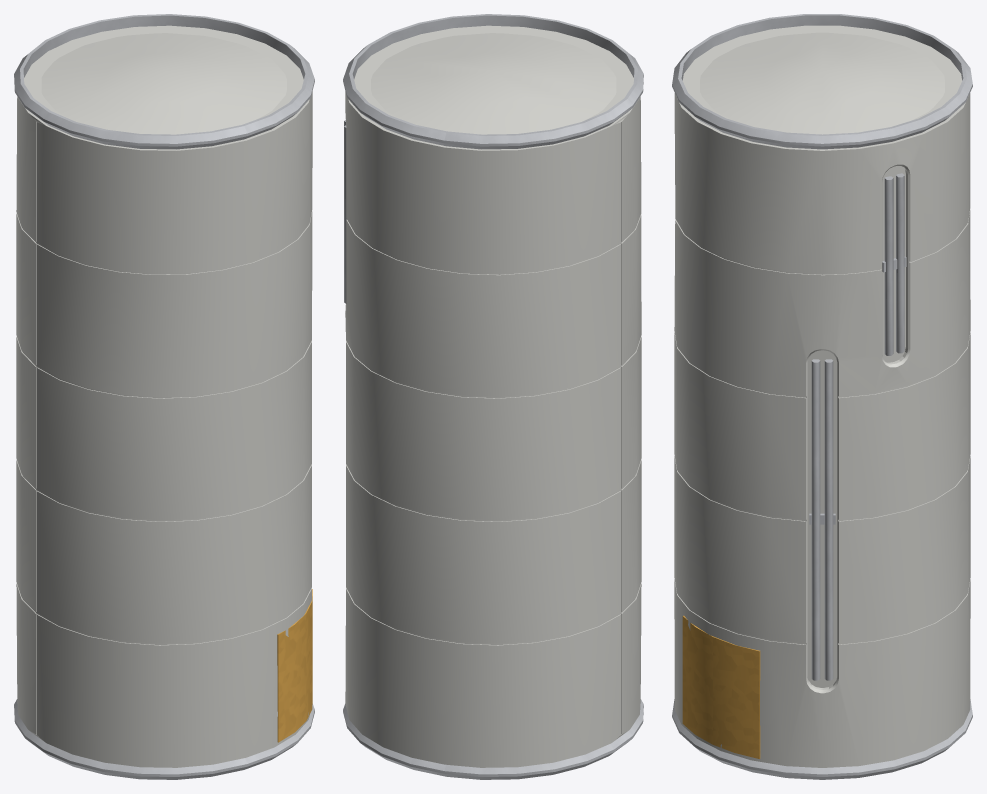
Rendered from ax_tank_01_modern_methalox_m_long.glb.
The picture shows the model from 3 angles, left to right: view 1: azimuth 30°, elevation 25°; view 2: azimuth 150°, elevation 25°; view 3: azimuth 270°, elevation 25°; orthographic projection.
Visible parts, largest first — view 1: tank_barrel, dome_caps, end_rings, mli_patch; view 2: tank_barrel, dome_caps, end_rings, raceway_lines; view 3: tank_barrel, dome_caps, end_rings, raceway_lines, mli_patch.
Boxes of the visible parts, x1,y1,x2,y2 form: tank_barrel: (16, 91, 312, 767); dome_caps: (24, 25, 303, 134); end_rings: (14, 14, 314, 779); mli_patch: (277, 589, 312, 742); tank_barrel: (345, 91, 641, 767); dome_caps: (354, 25, 633, 134); end_rings: (343, 14, 643, 779); raceway_lines: (344, 120, 346, 303); tank_barrel: (674, 93, 970, 767); dome_caps: (683, 25, 961, 134); end_rings: (672, 14, 972, 779); raceway_lines: (809, 173, 906, 680); mli_patch: (682, 615, 760, 758).
Bounding box in the file's own units: 2.54 × 6.07 × 2.54.
Materials: 3 (2 with a texture image).
